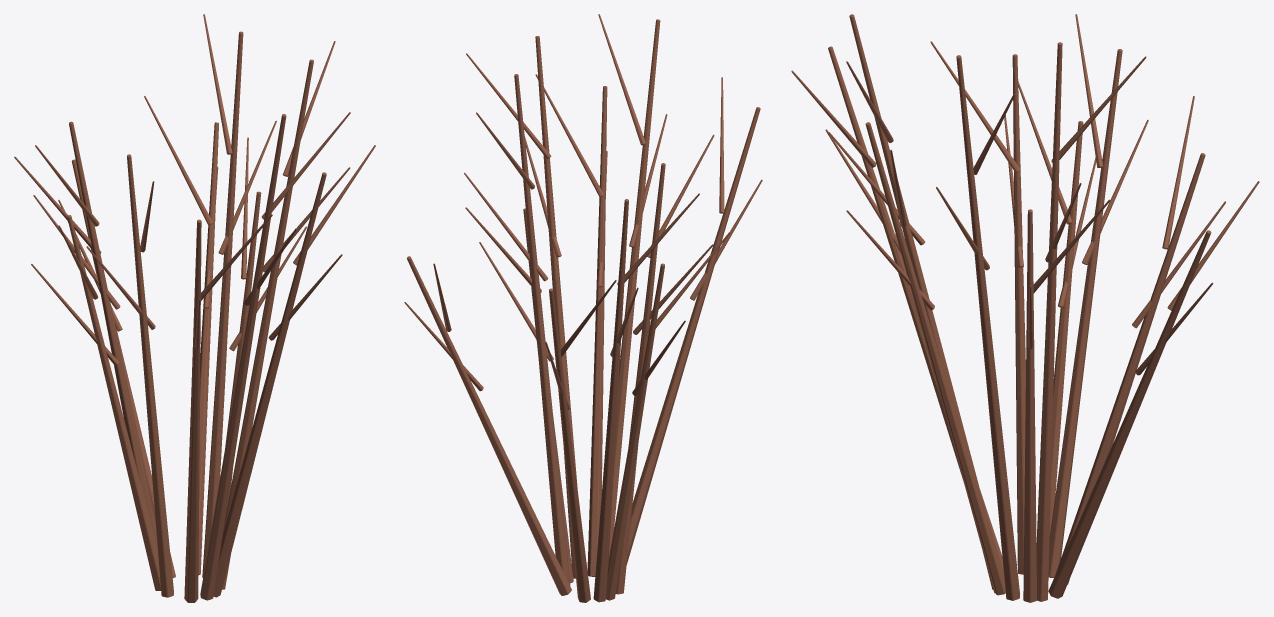
Rendered from b08_redtwig_dogwood_winter.glb.
The picture shows the model from 3 angles, left to right: view 1: azimuth 30°, elevation 25°; view 2: azimuth 150°, elevation 25°; view 3: azimuth 270°, elevation 25°; orthographic projection. The views are drawn at different scales.
Parts seen in each view (by area): view 1: b08_redtwig_dogwood_winter; view 2: b08_redtwig_dogwood_winter; view 3: b08_redtwig_dogwood_winter.
Boxes of the visible parts, bbox=[...] form: b08_redtwig_dogwood_winter: bbox=[14, 14, 375, 602]; b08_redtwig_dogwood_winter: bbox=[404, 14, 762, 602]; b08_redtwig_dogwood_winter: bbox=[791, 14, 1259, 602].
Size of the model in its own units: 0.8811 by 1.62 by 1.18.
